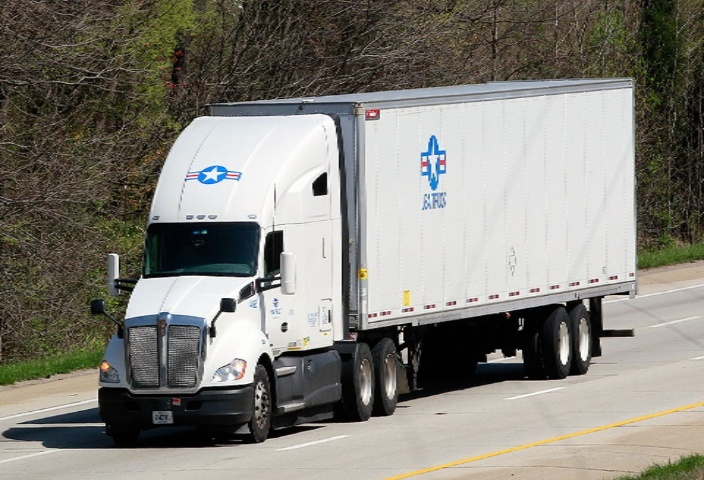truck: (115, 60, 642, 453)
